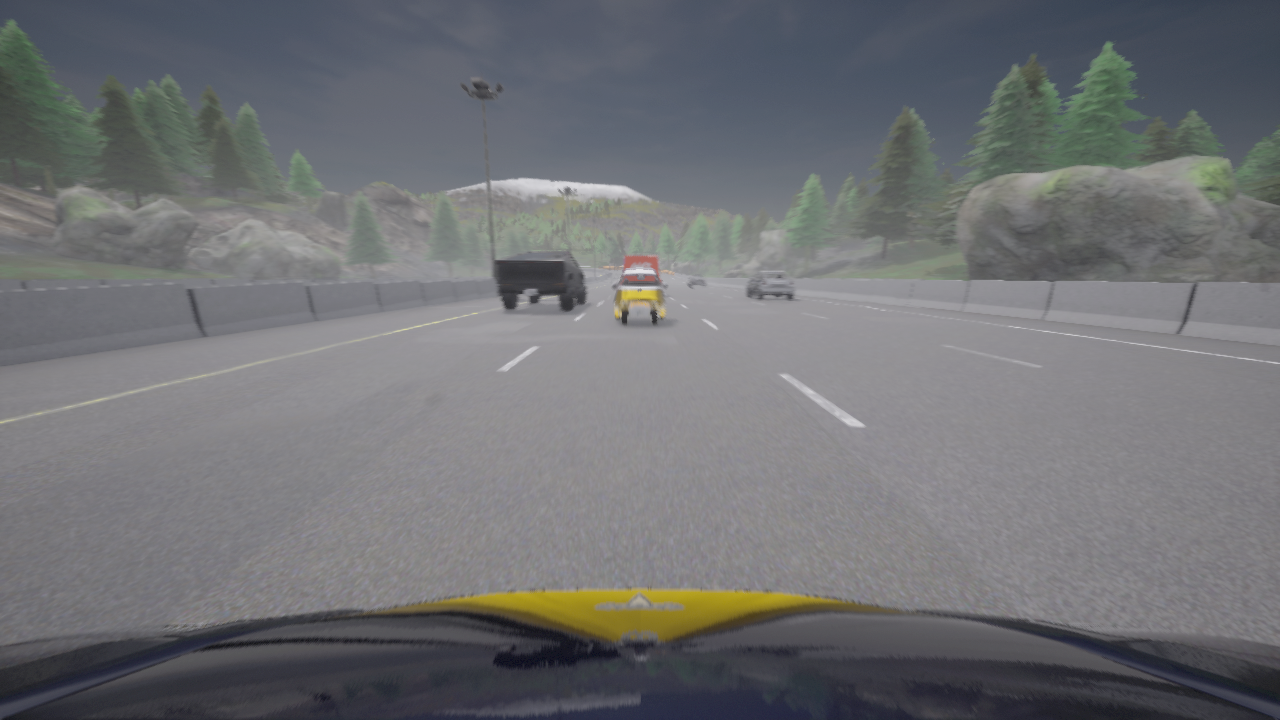cyclist: (0, 588, 1279, 719), (497, 252, 586, 310), (612, 268, 667, 324), (746, 271, 794, 299), (623, 255, 661, 284), (688, 275, 707, 287)
